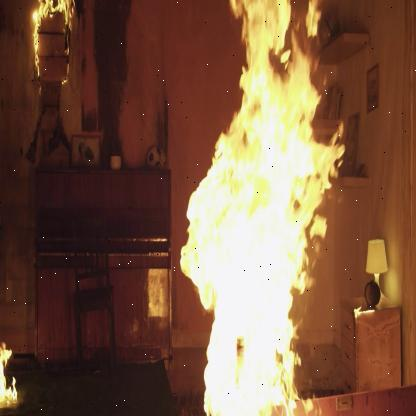fire: (172, 0, 346, 416), (29, 0, 79, 88), (0, 333, 25, 412)
